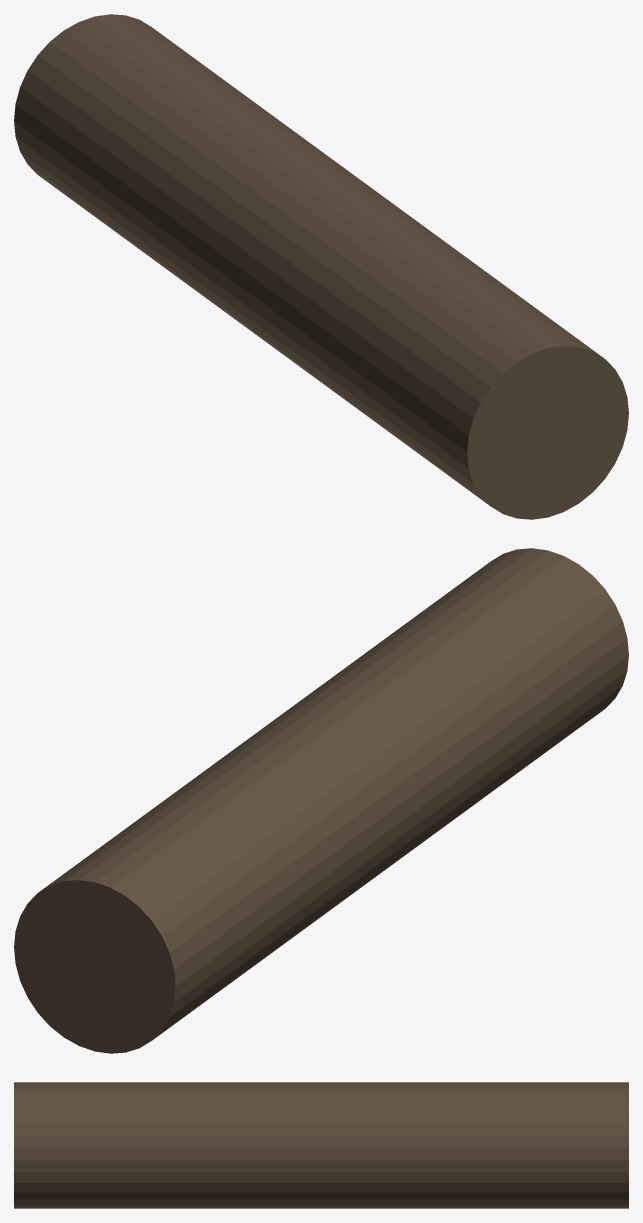
The model's file is BirdHouse_Exit.fbx.
3 views of the same model, one above another, from view 1: azimuth 30°, elevation 25°; view 2: azimuth 150°, elevation 25°; view 3: azimuth 270°, elevation 25° (orthographic). The views are drawn at different scales.
Visible parts, largest first — view 1: Exit; view 2: Exit; view 3: Exit.
Part boxes in pixels (<box>): Exit: <box>14,14,628,519</box>; Exit: <box>14,548,628,1053</box>; Exit: <box>14,1082,628,1208</box>.
Size of the model in its own units: 57.28 by 57.28 by 278.
